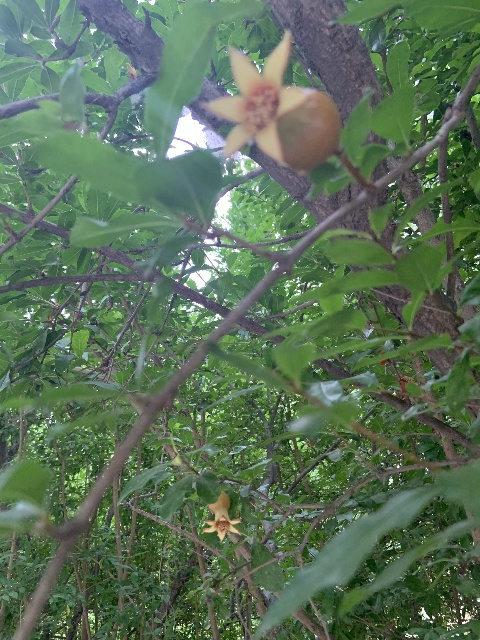early-fruit: (202, 30, 340, 171), (201, 490, 242, 543)
